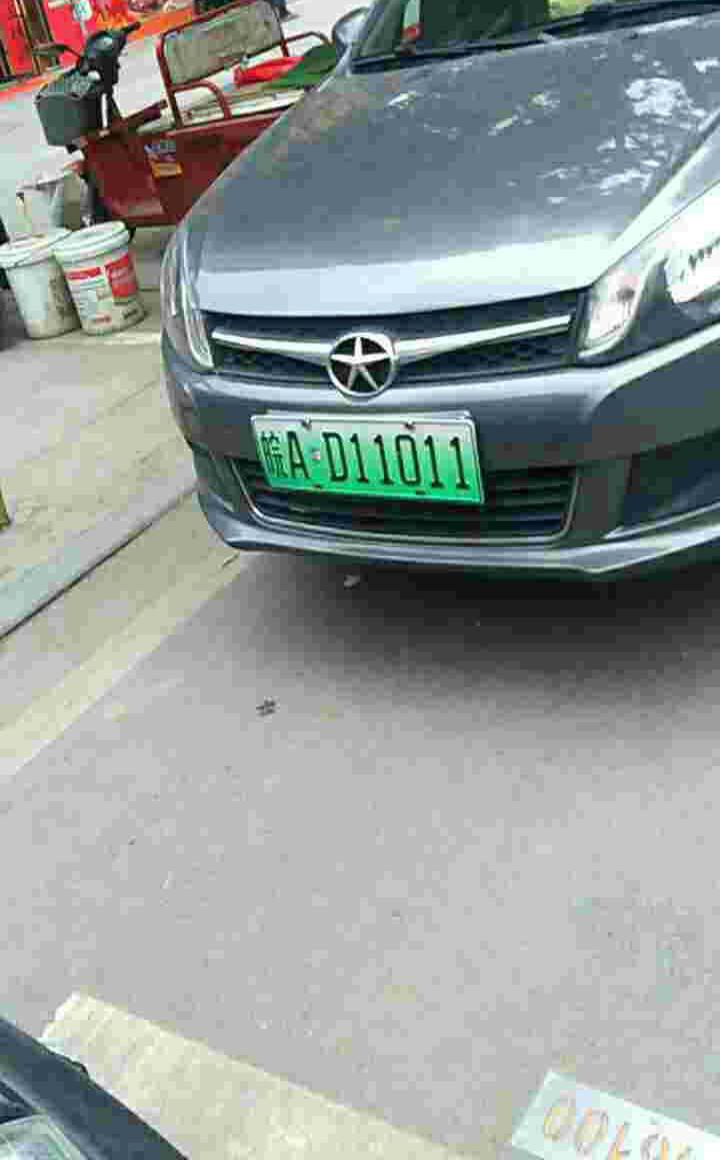car_id: (250, 420, 484, 502)
